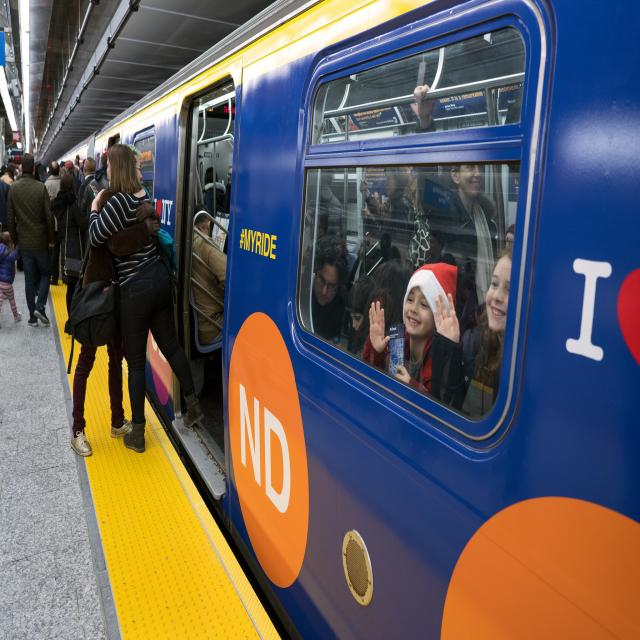body: (88, 144, 205, 452), (68, 142, 162, 457), (430, 242, 514, 420), (416, 165, 501, 326), (361, 262, 458, 394), (4, 152, 56, 328), (51, 171, 93, 337), (353, 226, 418, 321), (359, 165, 416, 266), (190, 202, 228, 349), (311, 232, 351, 346), (359, 163, 418, 239), (43, 160, 66, 286), (298, 204, 334, 280), (0, 153, 85, 184), (80, 150, 112, 232), (0, 230, 23, 330), (346, 273, 378, 332), (202, 166, 227, 239), (318, 175, 344, 239), (76, 156, 96, 210), (223, 164, 232, 256), (405, 98, 432, 124), (64, 160, 83, 196), (503, 221, 519, 256), (0, 162, 18, 188)
